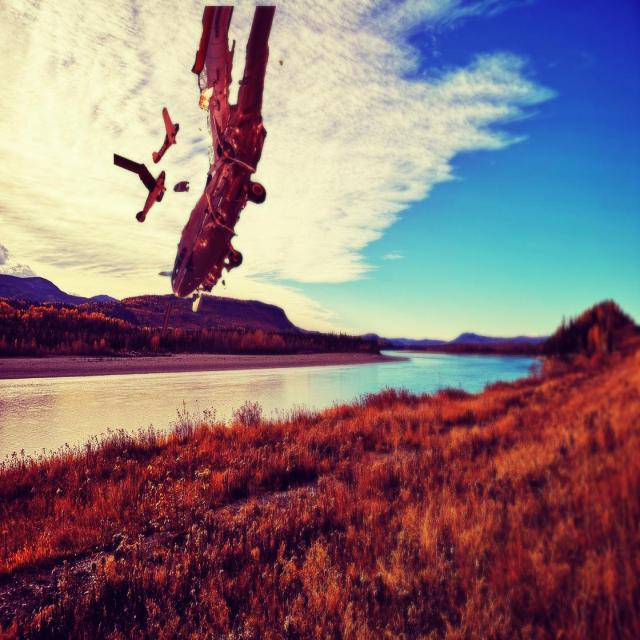airplane: (161, 3, 275, 313)
